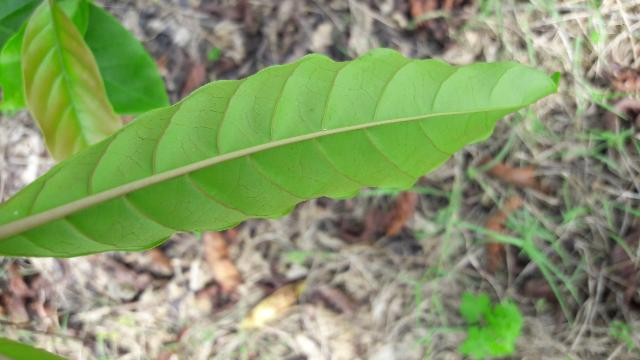healthy: (1, 49, 559, 255)
